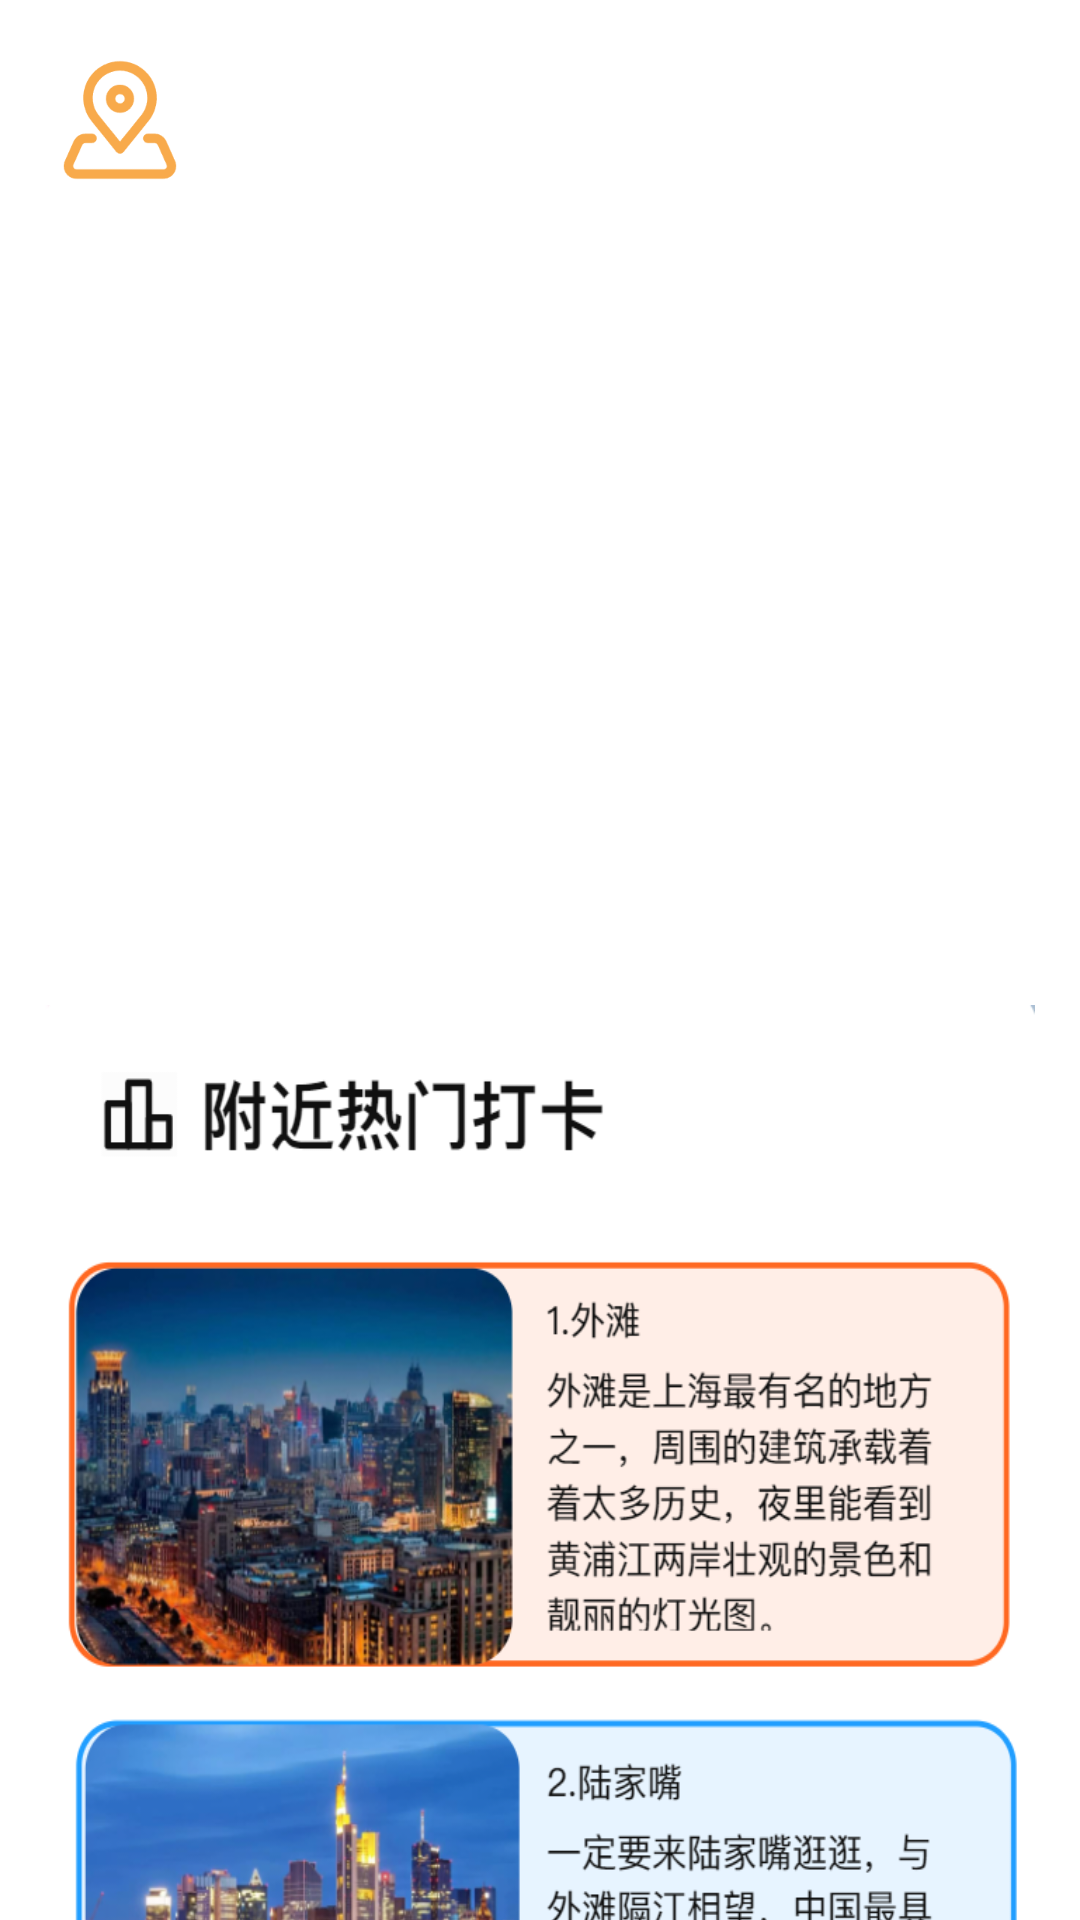

Where to tap for icons on this 1080×1920 app screen, as (x=x, y=y):
daohang: (x=120, y=120)
